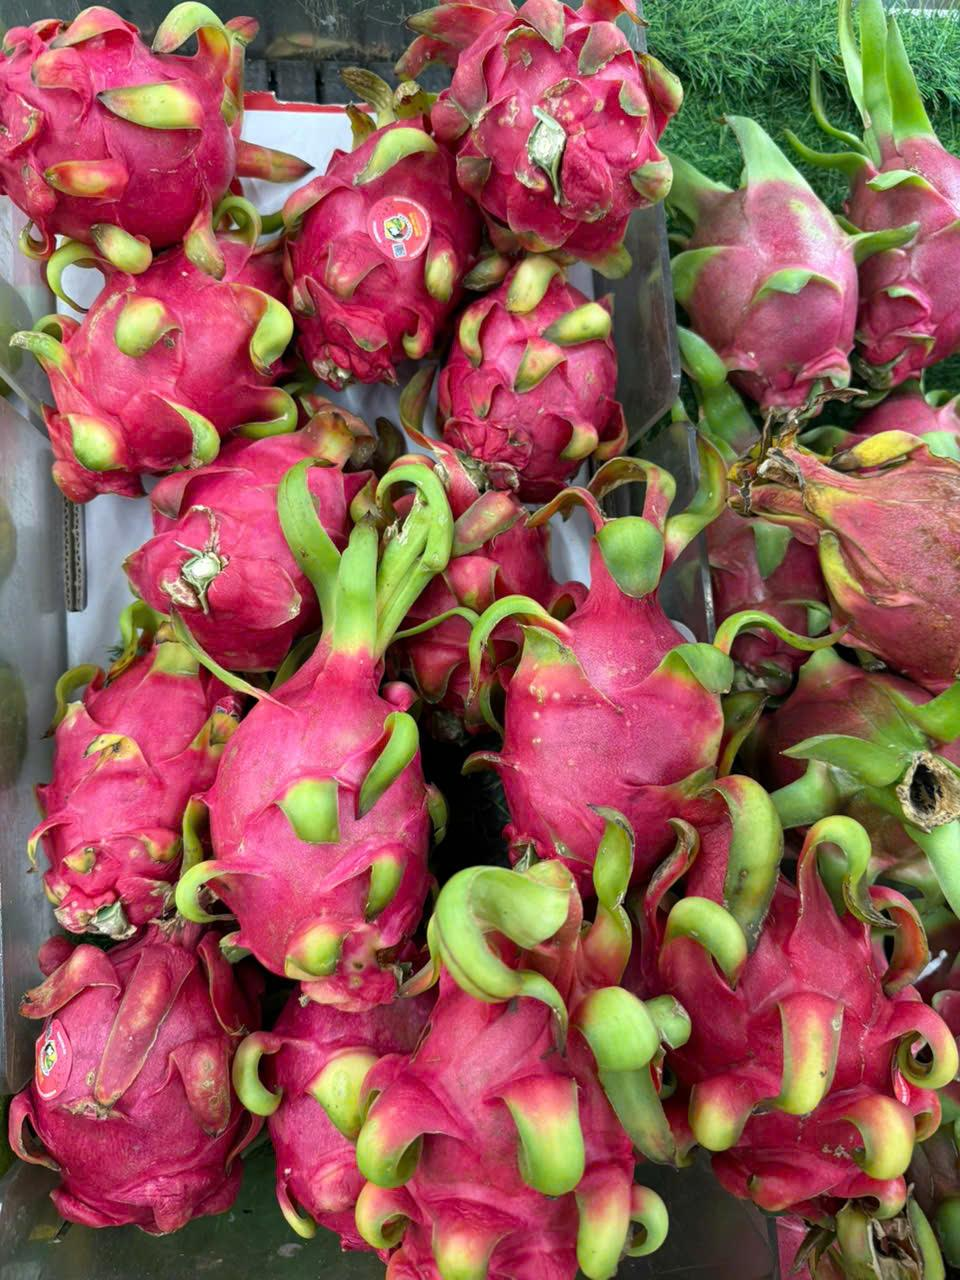dragon fruit: (660, 788, 944, 1234), (372, 906, 632, 1280), (210, 646, 434, 1018), (18, 905, 268, 1236), (0, 0, 283, 267), (495, 536, 714, 868), (10, 230, 280, 494), (645, 126, 864, 448), (410, 0, 678, 246), (275, 63, 460, 370), (40, 606, 202, 944), (745, 430, 960, 678), (138, 416, 332, 680), (430, 258, 626, 488), (862, 111, 960, 386)
